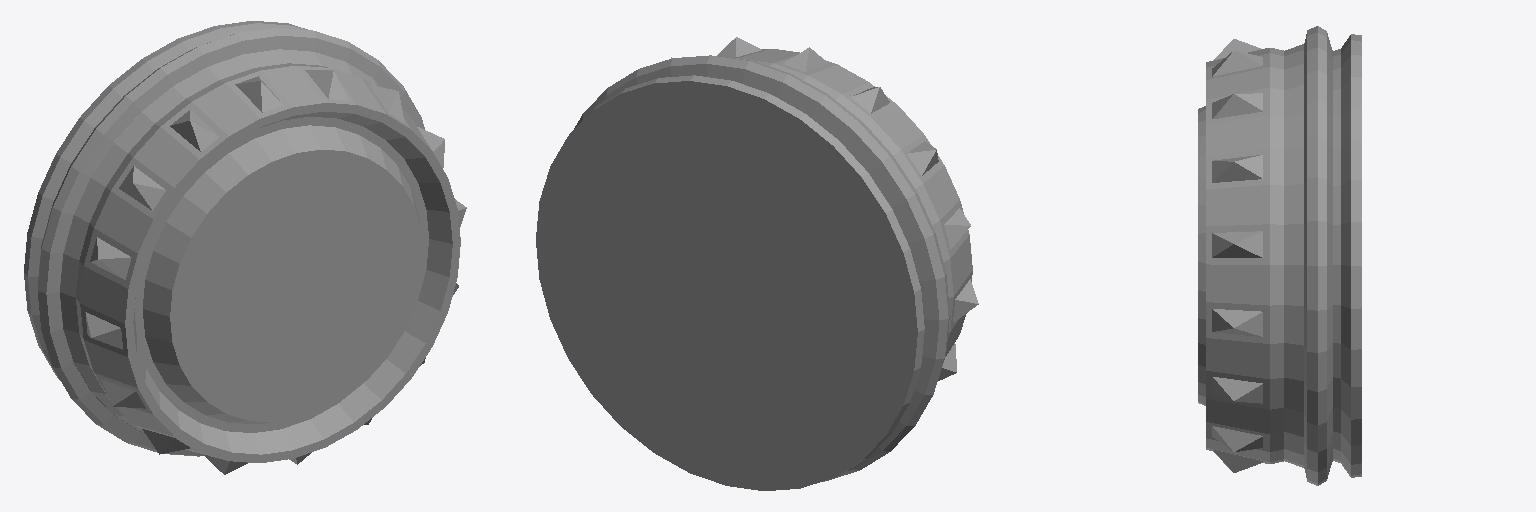
Rendered from Car1.obj.
3 views of the same model, side by side, from view 1: azimuth 30°, elevation 25°; view 2: azimuth 150°, elevation 25°; view 3: azimuth 270°, elevation 25° (orthographic).
Parts seen in each view (by area): view 1: TopCylinder; view 2: TopCylinder; view 3: TopCylinder.
Part boxes in pixels (left/top/right/bottom): TopCylinder: left=24, top=21, right=466, bottom=474; TopCylinder: left=536, top=37, right=978, bottom=490; TopCylinder: left=1198, top=26, right=1361, bottom=485.
Bounding box in the file's own units: 2.05 × 2.05 × 0.7332.